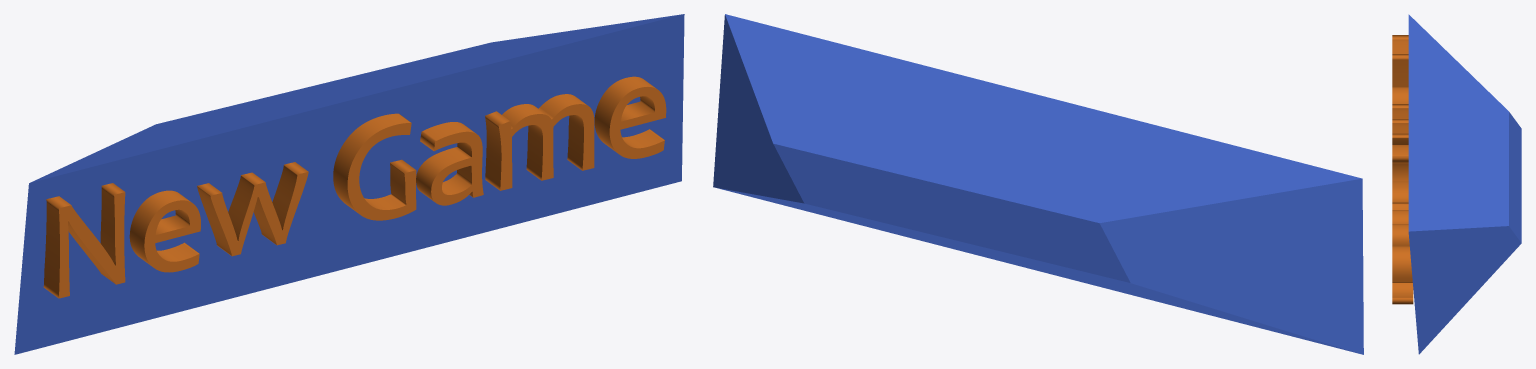
File: newGame.fbx
3 views of the same model, side by side, from view 1: azimuth 30°, elevation 25°; view 2: azimuth 150°, elevation 25°; view 3: azimuth 270°, elevation 25° (orthographic). The views are drawn at different scales.
Visible parts, largest first — view 1: Cube, Text; view 2: Cube; view 3: Cube, Text.
Boxes of the visible parts, x1,y1,x2,y2 form: Cube: (14,14,684,354); Text: (43,76,666,298); Cube: (713,14,1363,354); Cube: (1408,14,1521,354); Text: (1392,35,1413,304).
Bounding box in the file's own units: 398 × 105 × 95.37.
